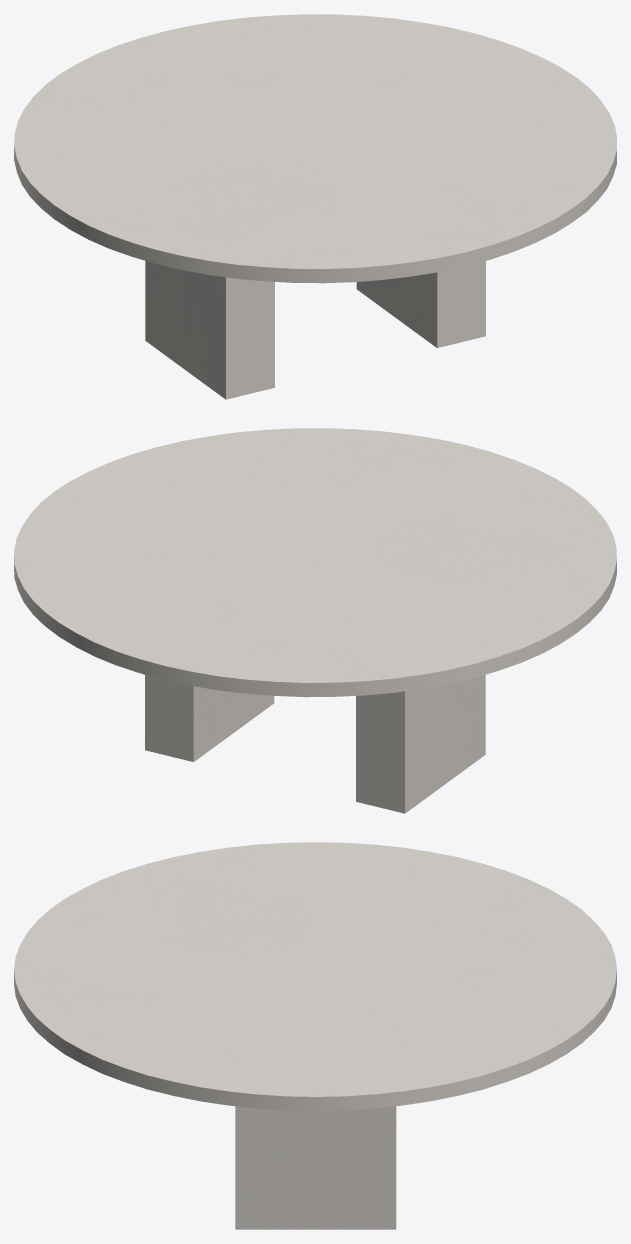
The model's file is pearlwhite_round_standard_ridge.glb.
3 views of the same model, one above another, from view 1: azimuth 30°, elevation 25°; view 2: azimuth 150°, elevation 25°; view 3: azimuth 270°, elevation 25° (orthographic).
Parts seen in each view (by area): view 1: pearlwhite_roundstandard_ridge; view 2: pearlwhite_roundstandard_ridge; view 3: pearlwhite_roundstandard_ridge.
Boxes of the visible parts, bbox=[...] form: pearlwhite_roundstandard_ridge: bbox=[14, 14, 616, 399]; pearlwhite_roundstandard_ridge: bbox=[14, 428, 616, 813]; pearlwhite_roundstandard_ridge: bbox=[14, 842, 616, 1229].
Size of the model in its own units: 6.97 by 2.51 by 6.97.
Materials: 1 (1 with a texture image).
